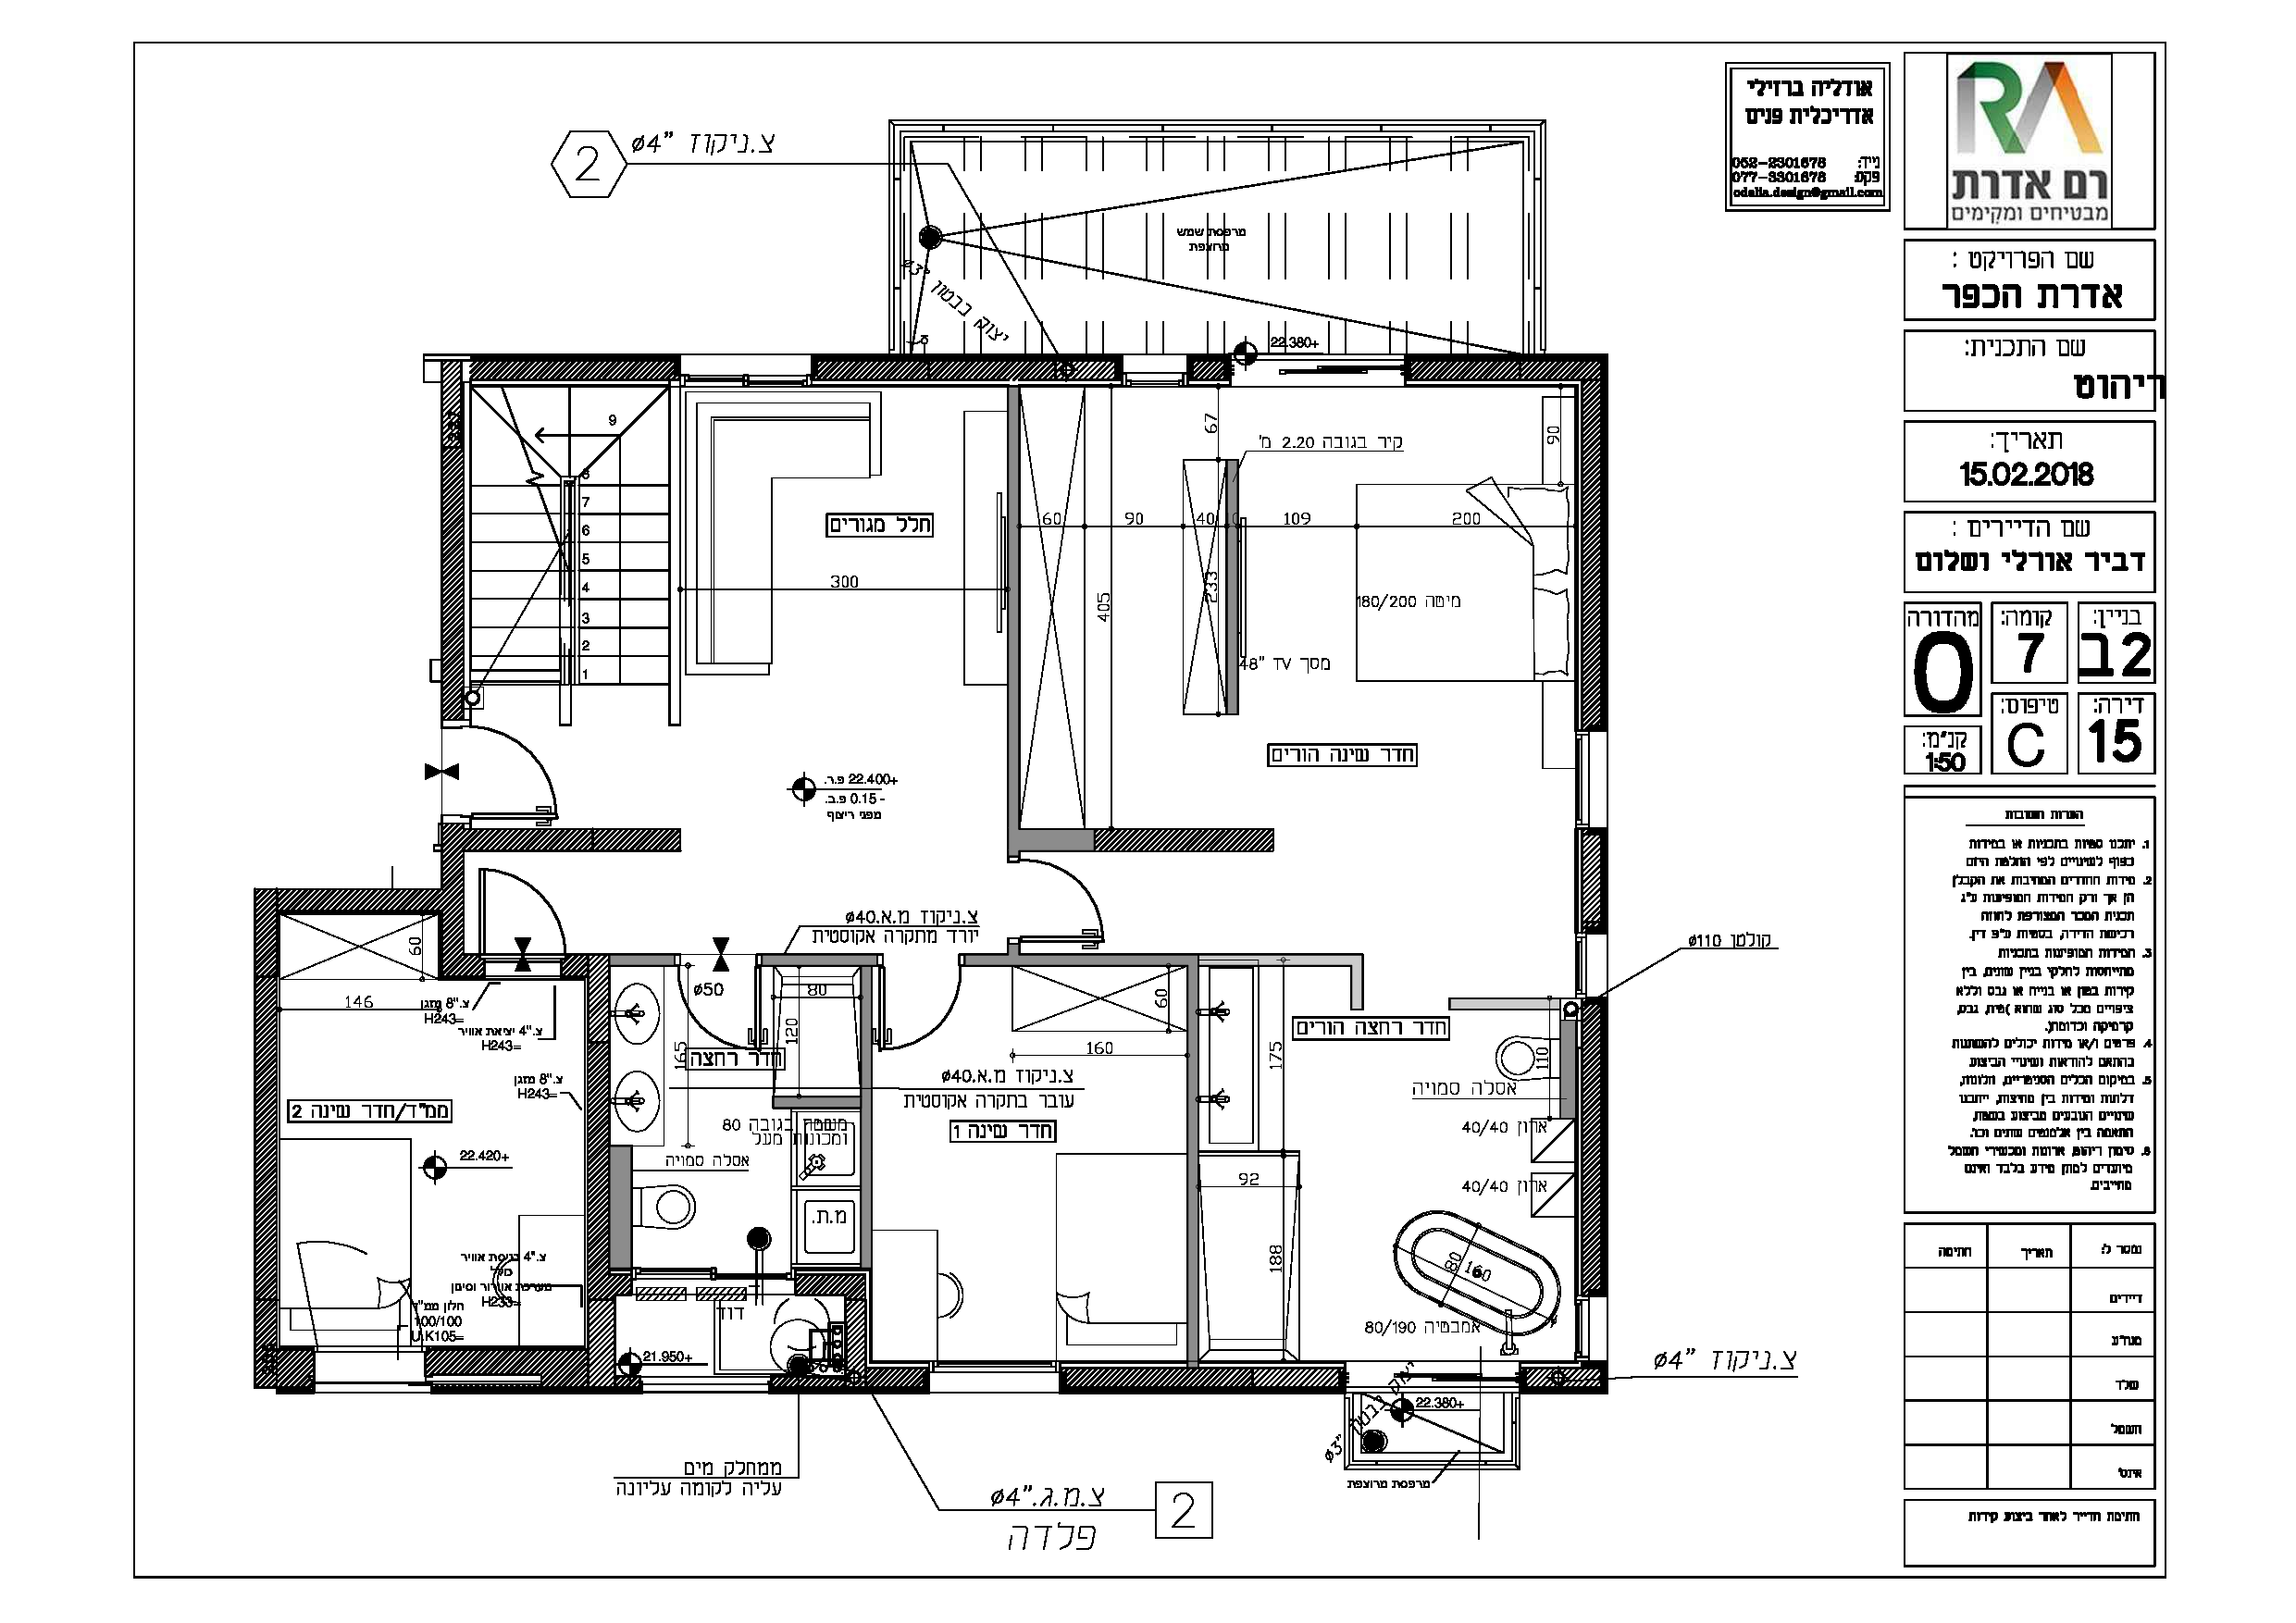door: (1026, 855, 1126, 949), (474, 861, 574, 954), (873, 973, 975, 1057)
wall: (253, 891, 279, 1389), (1579, 360, 1606, 731), (588, 964, 610, 1389), (441, 362, 462, 718), (808, 355, 1110, 379), (1061, 1368, 1340, 1393), (1581, 1003, 1604, 1302), (443, 829, 680, 854), (469, 355, 680, 378), (1411, 358, 1604, 383), (253, 889, 457, 910), (1093, 831, 1274, 854), (443, 831, 464, 978), (1581, 827, 1604, 934)
